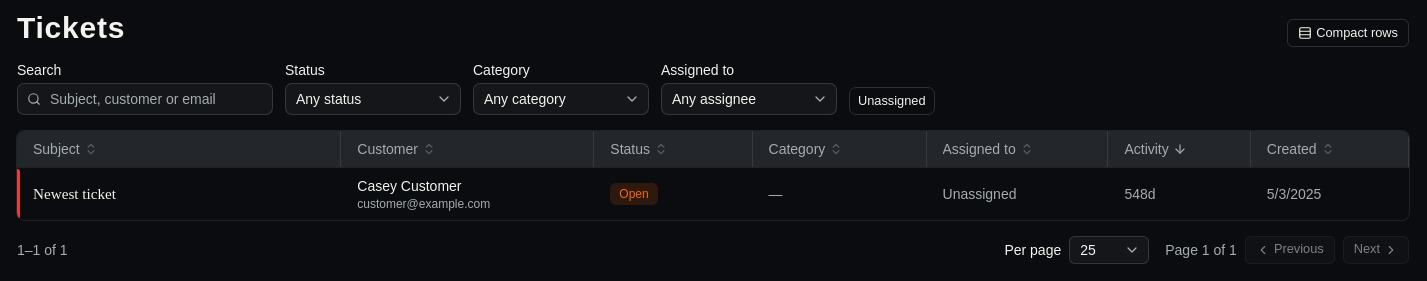
Test: TicketsPage subject link › keeps the subject truncating inside the fixed-width cell
Hover over the link "Newest ticket" at (75, 193), box [33, 185, 116, 202]
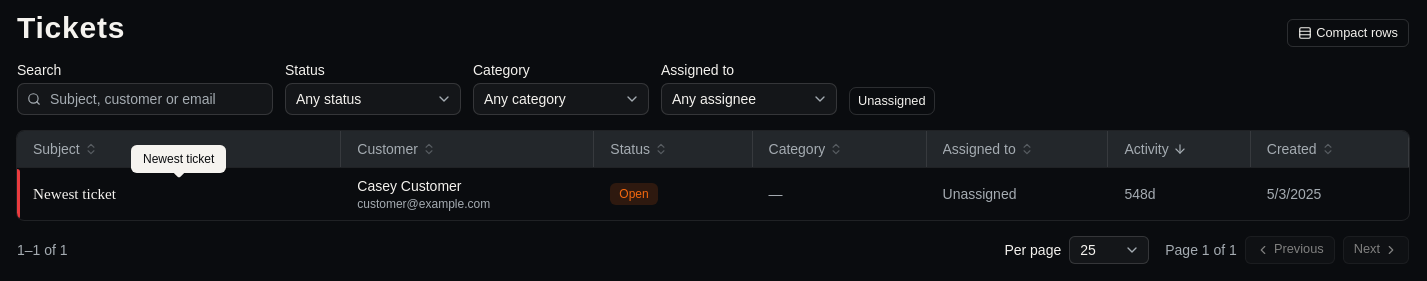
Expected: the tooltip reads "Newest ticket", [143, 152, 214, 166]
